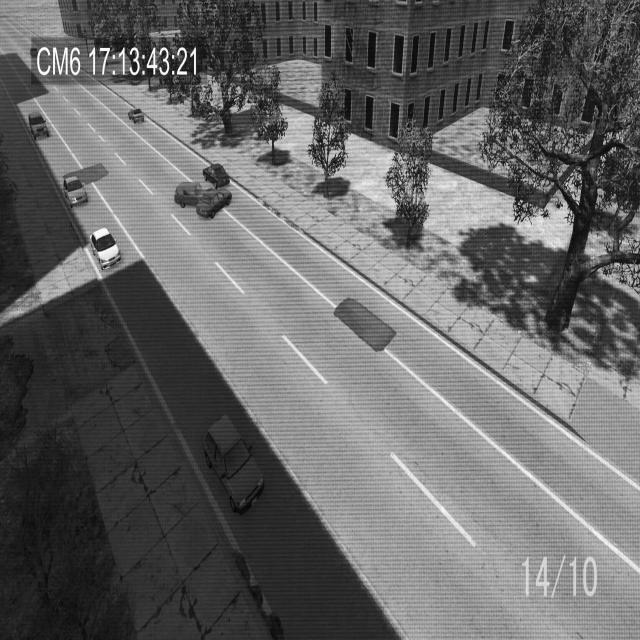accident: (175, 176, 232, 224)
vehicle: (199, 396, 269, 531), (86, 221, 124, 274), (59, 171, 89, 213), (26, 101, 52, 145), (201, 158, 230, 190), (125, 102, 147, 130)
